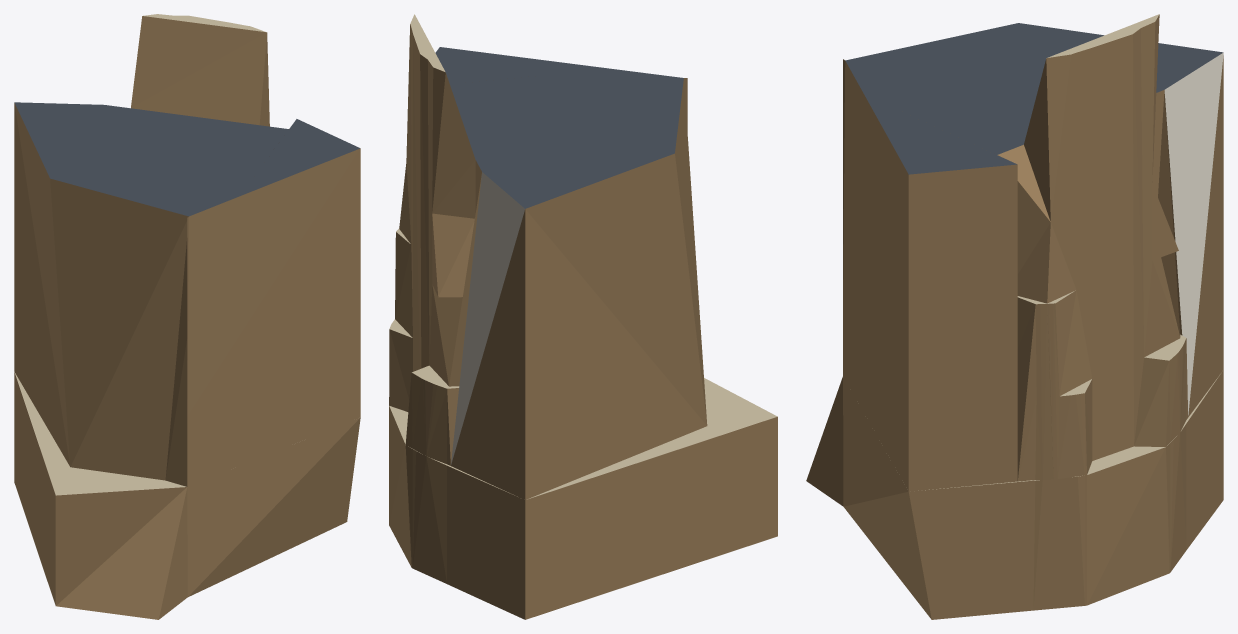
Rendered from dageraad.lod2.glb.
3 renders of one model, left to right at view 1: azimuth 30°, elevation 25°; view 2: azimuth 150°, elevation 25°; view 3: azimuth 270°, elevation 25°, orthographic. The views are drawn at different scales.
Parts seen in each view (by area): view 1: lod2; view 2: lod2; view 3: lod2.
Part boxes in pixels (x1=…): lod2: x1=14, y1=14, x2=360, y2=619; lod2: x1=389, y1=14, x2=777, y2=619; lod2: x1=806, y1=14, x2=1223, y2=619.
Size of the model in its own units: 14.93 by 21.34 by 14.85.
